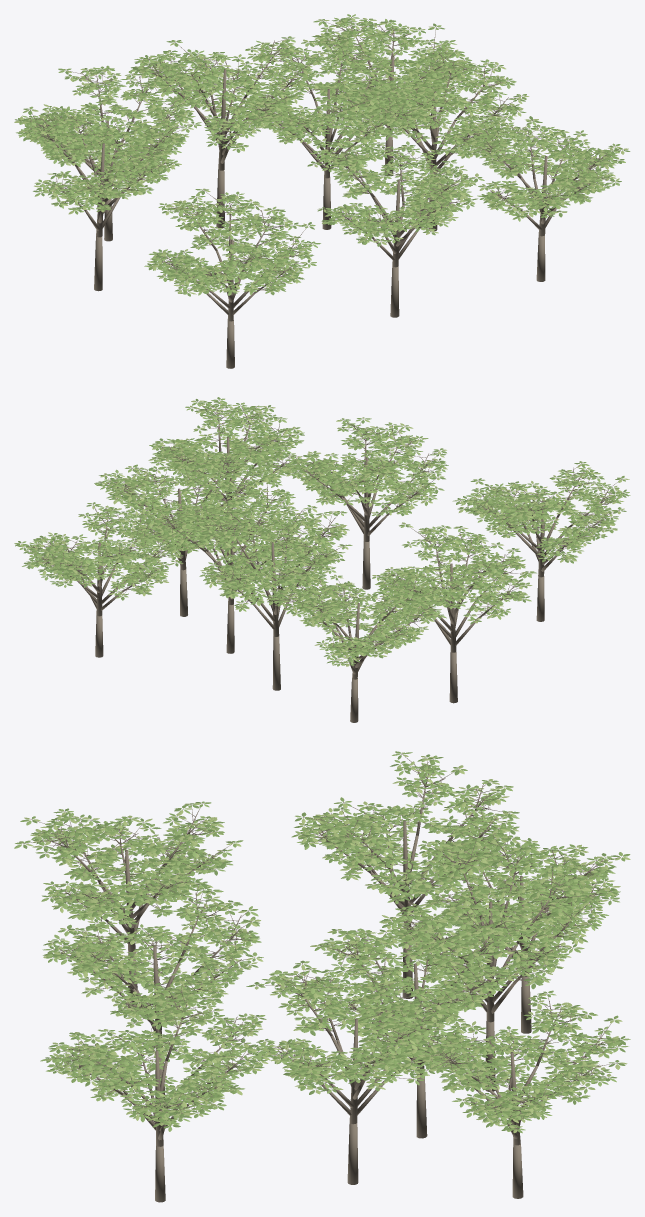
File: 20261104-campus-planting-south-front.glb
3 renders of one model, top to bottom at view 1: azimuth 30°, elevation 25°; view 2: azimuth 150°, elevation 25°; view 3: azimuth 270°, elevation 25°, orthographic. The views are drawn at different scales.
Visible parts, largest first — view 1: Tree foliage 31 shade 2, Tree foliage 31 shade 1, Tree foliage 31 shade 0, Tree foliage 0 shade 2, Tree foliage 1 shade 3, Tree foliage 33 shade 0, Tree foliage 0 shade 0, Tree foliage 31 shade 3, Tree foliage 0 shade 1, Tree foliage 33 shade 3, Tree foliage 33 shade 1, Tree foliage 32 shade 1 (+33 smaller); view 2: Tree foliage 32 shade 3, Tree foliage 1 shade 1, Tree foliage 1 shade 0, Tree foliage 32 shade 2, Tree foliage 31 shade 2, Tree foliage 0 shade 1, Tree foliage 32 shade 0, Tree foliage 31 shade 3, Tree foliage 32 shade 1, Tree trunk 1, Tree foliage 31 shade 0, Tree foliage 1 shade 3 (+33 smaller); view 3: Tree foliage 33 shade 1, Tree foliage 33 shade 0, Tree foliage 33 shade 3, Tree foliage 33 shade 2, Tree foliage 1 shade 1, Tree foliage 0 shade 1, Tree foliage 21 shade 0, Tree foliage 32 shade 2, Tree foliage 21 shade 3, Tree foliage 31 shade 1, Tree foliage 32 shade 1, Tree foliage 32 shade 3 (+33 smaller).
Boxes of the visible parts, x1,y1,x2,y2 form: Tree foliage 31 shade 2: (147, 191, 314, 296); Tree foliage 31 shade 1: (144, 190, 317, 295); Tree foliage 31 shade 0: (149, 189, 320, 293); Tree foliage 0 shade 2: (15, 108, 183, 212); Tree foliage 1 shade 3: (130, 39, 326, 151); Tree foliage 33 shade 0: (458, 120, 622, 219); Tree foliage 0 shade 0: (18, 106, 184, 214); Tree foliage 31 shade 3: (147, 188, 311, 294); Tree foliage 0 shade 1: (22, 106, 184, 212); Tree foliage 33 shade 3: (454, 119, 628, 218); Tree foliage 33 shade 1: (450, 121, 625, 221); Tree foliage 32 shade 1: (307, 139, 484, 243); Tree foliage 32 shade 3: (286, 417, 447, 515); Tree foliage 1 shade 1: (189, 505, 346, 611); Tree foliage 1 shade 0: (192, 507, 352, 611); Tree foliage 32 shade 2: (285, 419, 448, 515); Tree foliage 31 shade 2: (456, 463, 628, 563); Tree foliage 0 shade 1: (375, 525, 534, 620); Tree foliage 32 shade 0: (285, 418, 446, 515); Tree foliage 31 shade 3: (458, 464, 629, 562); Tree foliage 32 shade 1: (289, 418, 445, 516); Tree trunk 1: (197, 507, 344, 690); Tree foliage 31 shade 0: (459, 462, 625, 560); Tree foliage 1 shade 3: (199, 507, 348, 609); Tree foliage 33 shade 1: (40, 990, 267, 1131); Tree foliage 33 shade 0: (47, 990, 266, 1127); Tree foliage 33 shade 3: (46, 989, 268, 1125); Tree foliage 33 shade 2: (45, 988, 266, 1128); Tree foliage 1 shade 1: (379, 836, 602, 985); Tree foliage 0 shade 1: (295, 754, 519, 915); Tree foliage 21 shade 0: (393, 990, 623, 1133); Tree foliage 32 shade 2: (43, 879, 259, 1034); Tree foliage 21 shade 3: (400, 994, 627, 1133); Tree foliage 31 shade 1: (14, 801, 235, 931); Tree foliage 32 shade 1: (42, 883, 259, 1036); Tree foliage 32 shade 3: (43, 883, 263, 1033).
Bounding box in the file's own units: 25.29 × 8.88 × 22.43.
